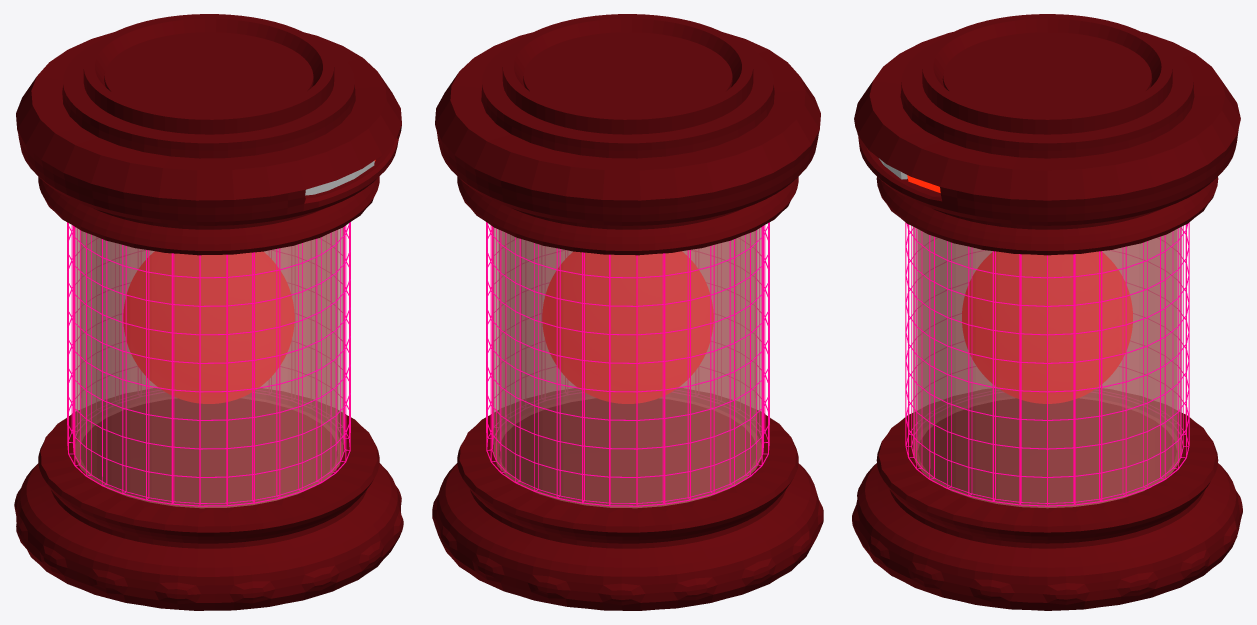
3 renders of one model, left to right at view 1: azimuth 30°, elevation 25°; view 2: azimuth 150°, elevation 25°; view 3: azimuth 270°, elevation 25°, orthographic.
Visible parts, largest first — view 1: 円柱.002, 円柱.001, 球, 円柱; view 2: 円柱.002, 円柱.001, 球, 円柱; view 3: 円柱.002, 円柱.001, 球, 円柱.
Boxes of the visible parts, left/top/right/bottom form: 円柱.002: left=14, top=14, right=403, bottom=610; 円柱.001: left=75, top=227, right=343, bottom=508; 球: left=123, top=251, right=294, bottom=403; 円柱: left=67, top=222, right=350, bottom=506; 円柱.002: left=432, top=14, right=823, bottom=610; 円柱.001: left=493, top=227, right=761, bottom=508; 球: left=542, top=251, right=713, bottom=403; 円柱: left=486, top=222, right=769, bottom=506; 円柱.002: left=852, top=14, right=1242, bottom=610; 円柱.001: left=912, top=227, right=1182, bottom=508; 球: left=962, top=251, right=1132, bottom=403; 円柱: left=905, top=222, right=1189, bottom=506.
Size of the model in its own units: 276 by 371 by 276.
